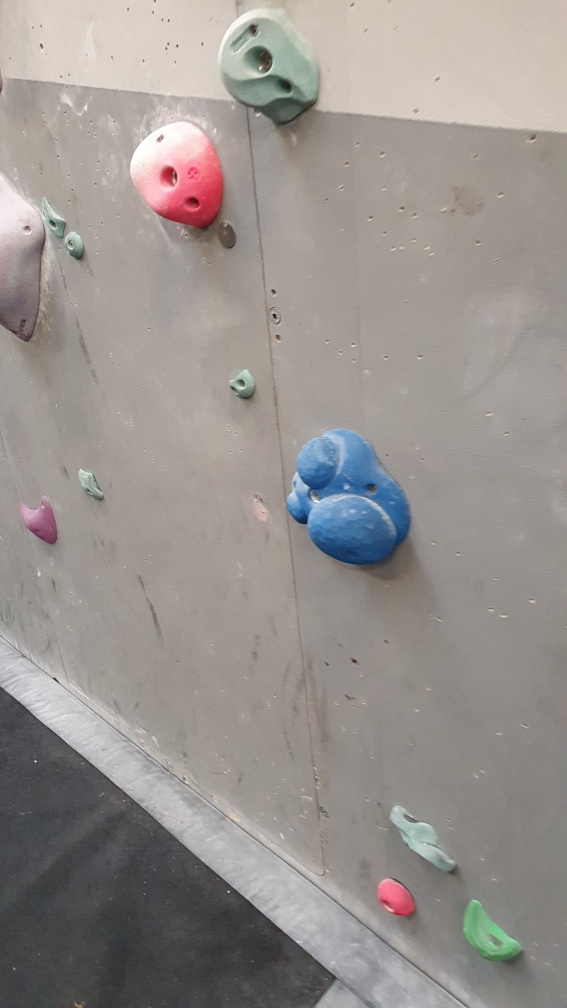Sloper: (284, 425, 413, 569)
